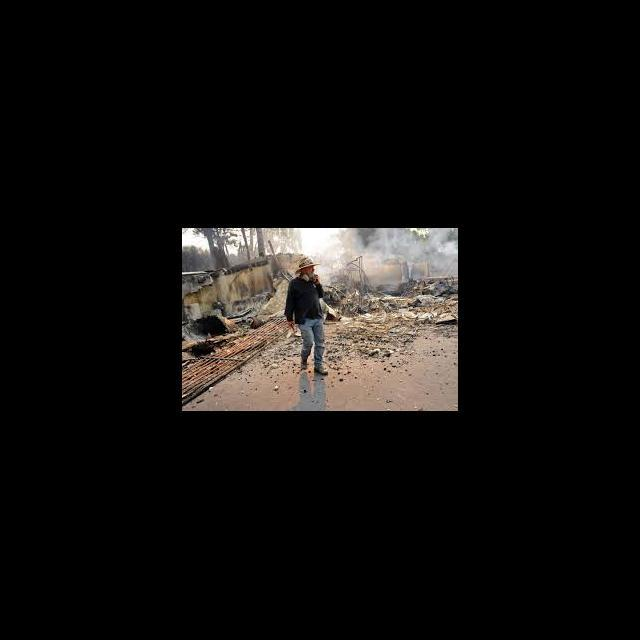Smoke: (356, 228, 457, 272)
